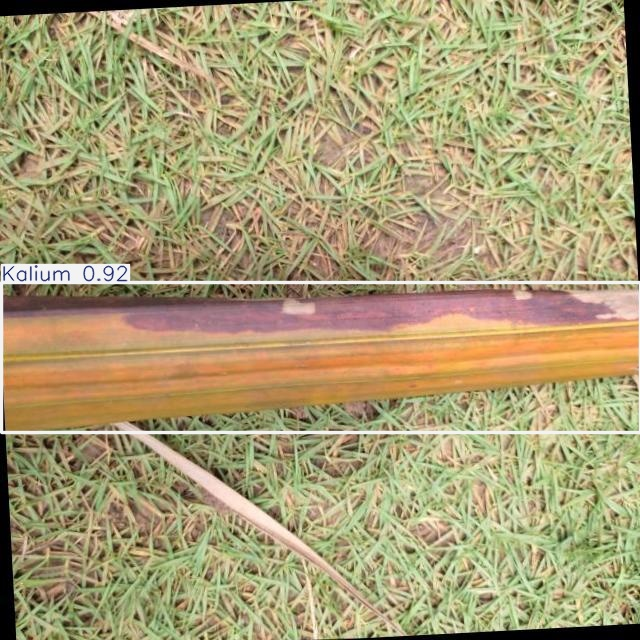Kalium: (1, 283, 640, 432)
